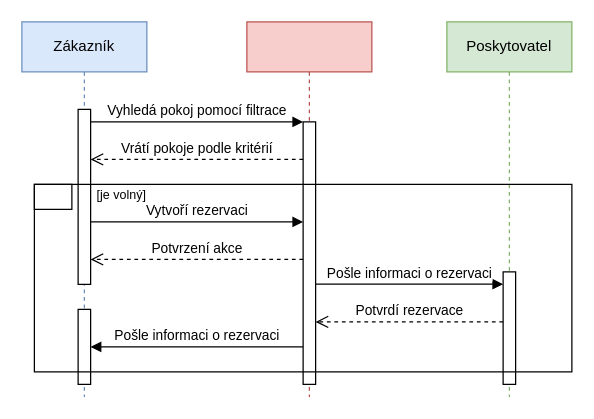
This 594x419 diagram has some shape labels left out. The box of each missing label's shape, as (x1, y1, x2, y2) in pixels:
Hotelák: (246, 21, 372, 397)
opt: (33, 183, 72, 209)
